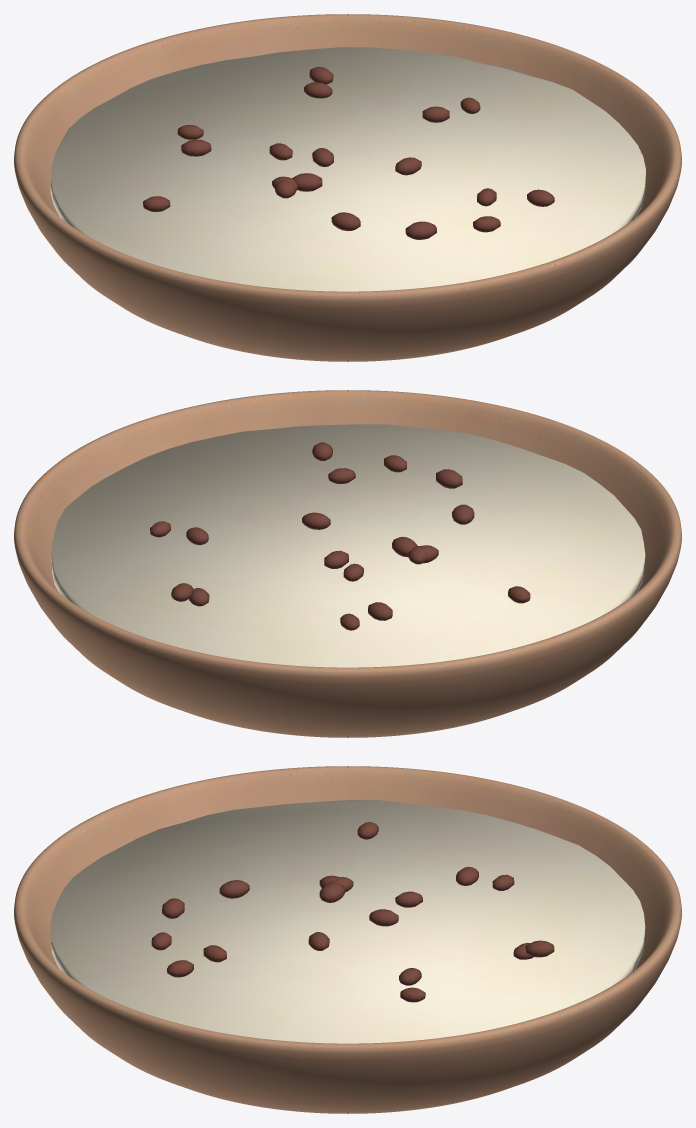
Rendered from natas.glb.
The picture shows the model from 3 angles, top to bottom: view 1: azimuth 30°, elevation 25°; view 2: azimuth 150°, elevation 25°; view 3: azimuth 270°, elevation 25°; orthographic projection.
Visible parts, largest first — view 1: natas; view 2: natas; view 3: natas.
Boxes of the visible parts, bbox=[...] form: natas: bbox=[14, 14, 681, 361]; natas: bbox=[14, 390, 681, 737]; natas: bbox=[14, 766, 681, 1113].
Size of the model in its own units: 0.225 by 0.0493 by 0.225.
Materials: 1 (1 with a texture image).
